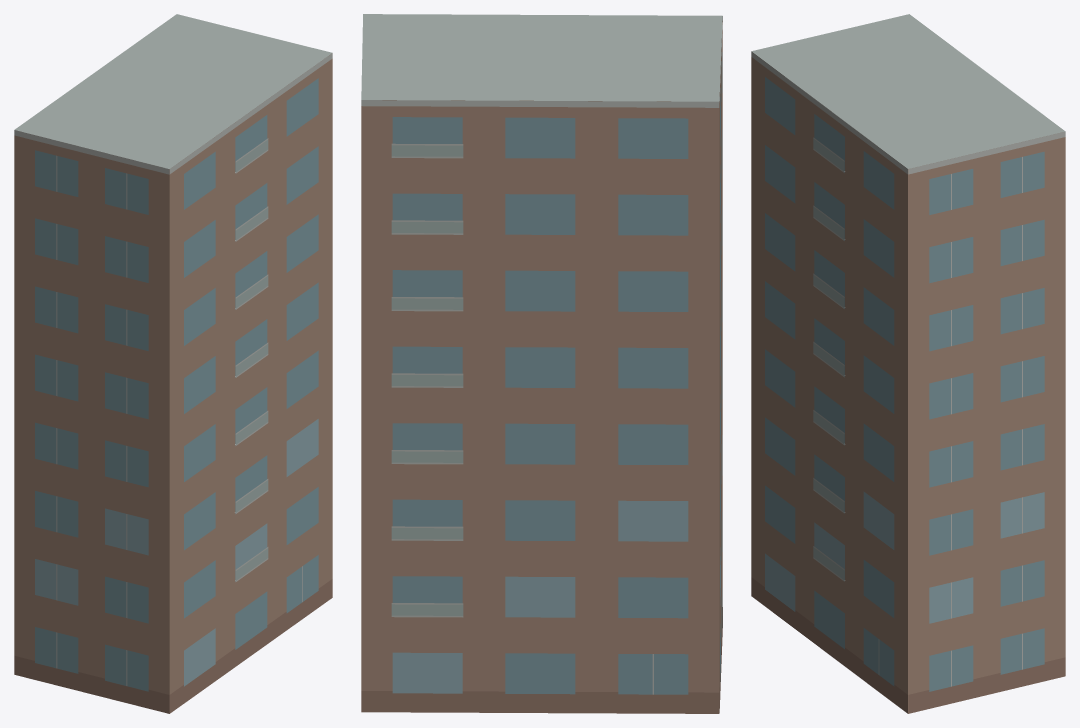
File: survey-upis-32679064.glb
3 renders of one model, left to right at view 1: azimuth 30°, elevation 25°; view 2: azimuth 150°, elevation 25°; view 3: azimuth 270°, elevation 25°, orthographic. The views are drawn at different scales.
Visible parts, largest first — view 1: survey-upis-32679064.tmp; view 2: survey-upis-32679064.tmp; view 3: survey-upis-32679064.tmp.
Boxes of the visible parts, x1,y1,x2,y2 form: survey-upis-32679064.tmp: [14, 14, 332, 713]; survey-upis-32679064.tmp: [361, 14, 722, 713]; survey-upis-32679064.tmp: [751, 14, 1065, 713].
Size of the model in its own units: 14.72 by 24.1 by 12.61.
